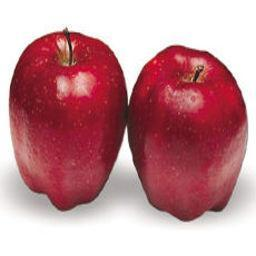apple: (8, 29, 131, 212), (127, 45, 248, 221)
